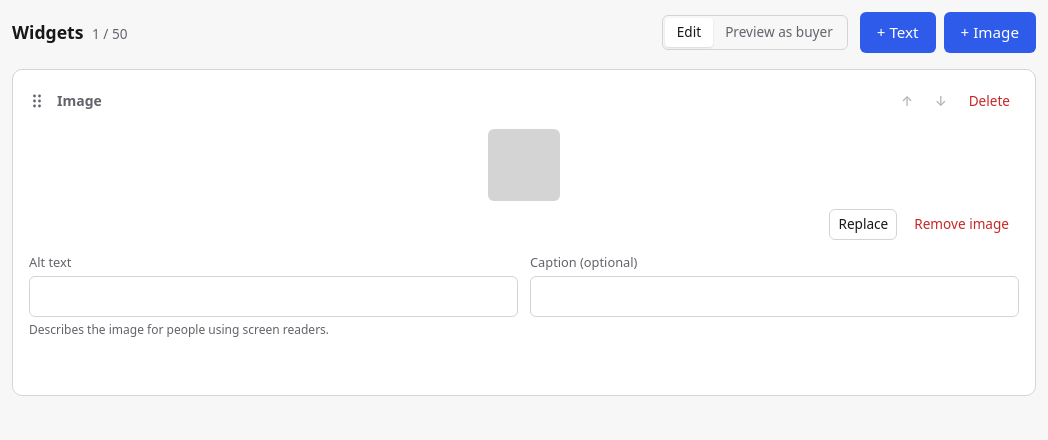
Test: WidgetBoard › image widgets › removes the image from the widget
Click the button "Remove image" at (962, 224), box top-left (905, 209), bottom-right (1018, 240)
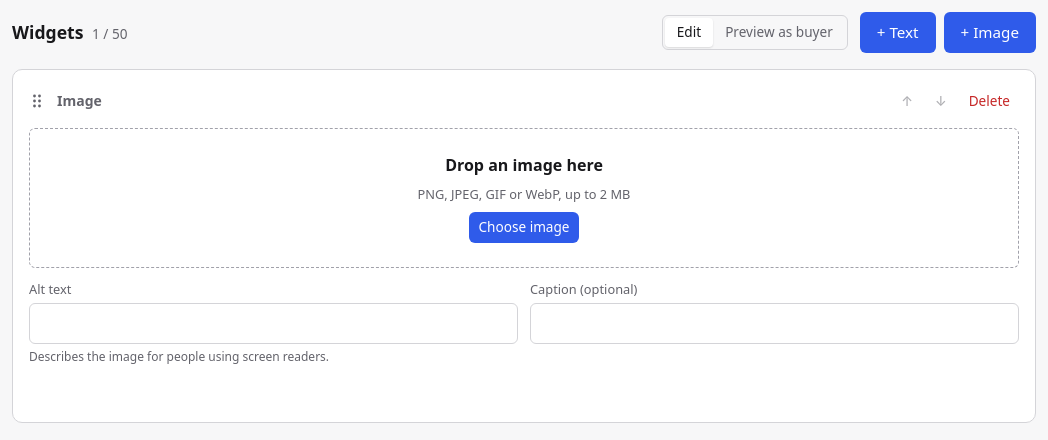
Expected: the text "Drop an image here" is shown, top-left (445, 153), bottom-right (603, 177)
